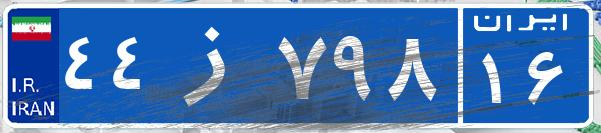1: (475, 38, 525, 113)
4: (57, 26, 110, 107), (110, 28, 158, 105)
6: (525, 38, 570, 115)
7: (273, 28, 330, 110)
8: (385, 28, 445, 110)
9: (330, 28, 385, 110)
ز: (158, 15, 273, 115)
